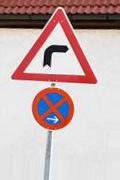right: (10, 6, 101, 86)
